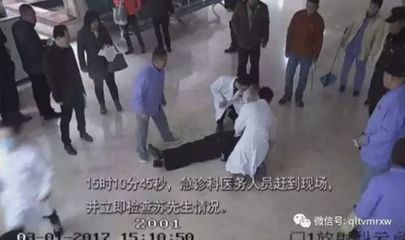10+: (1, 1, 404, 239)
down: (150, 128, 238, 180)
